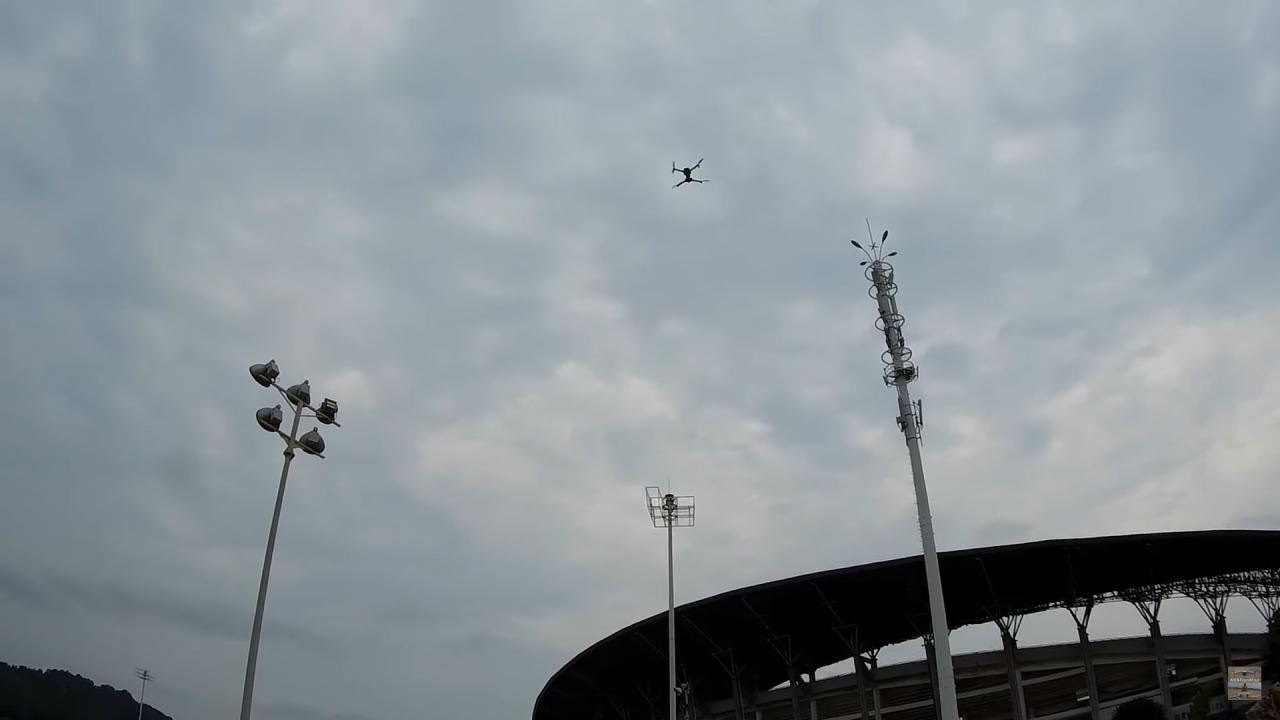Drone: (659, 150, 718, 198)
